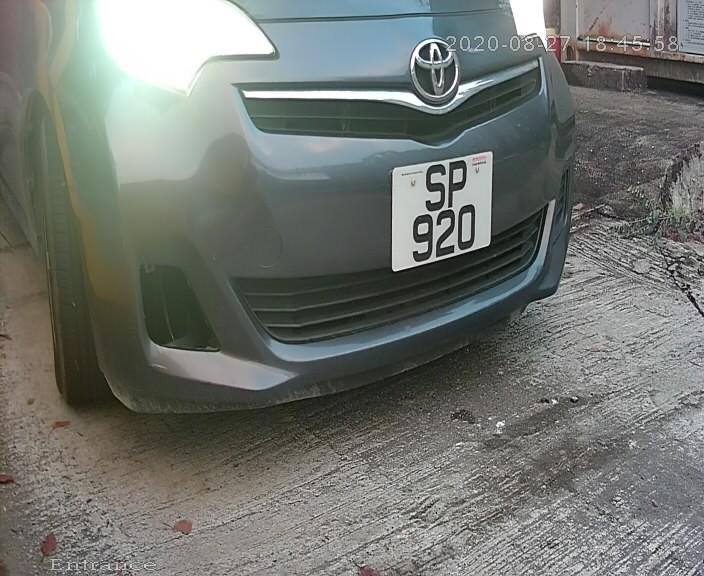Car: (4, 3, 610, 448)
License Plate: (381, 145, 503, 278)
